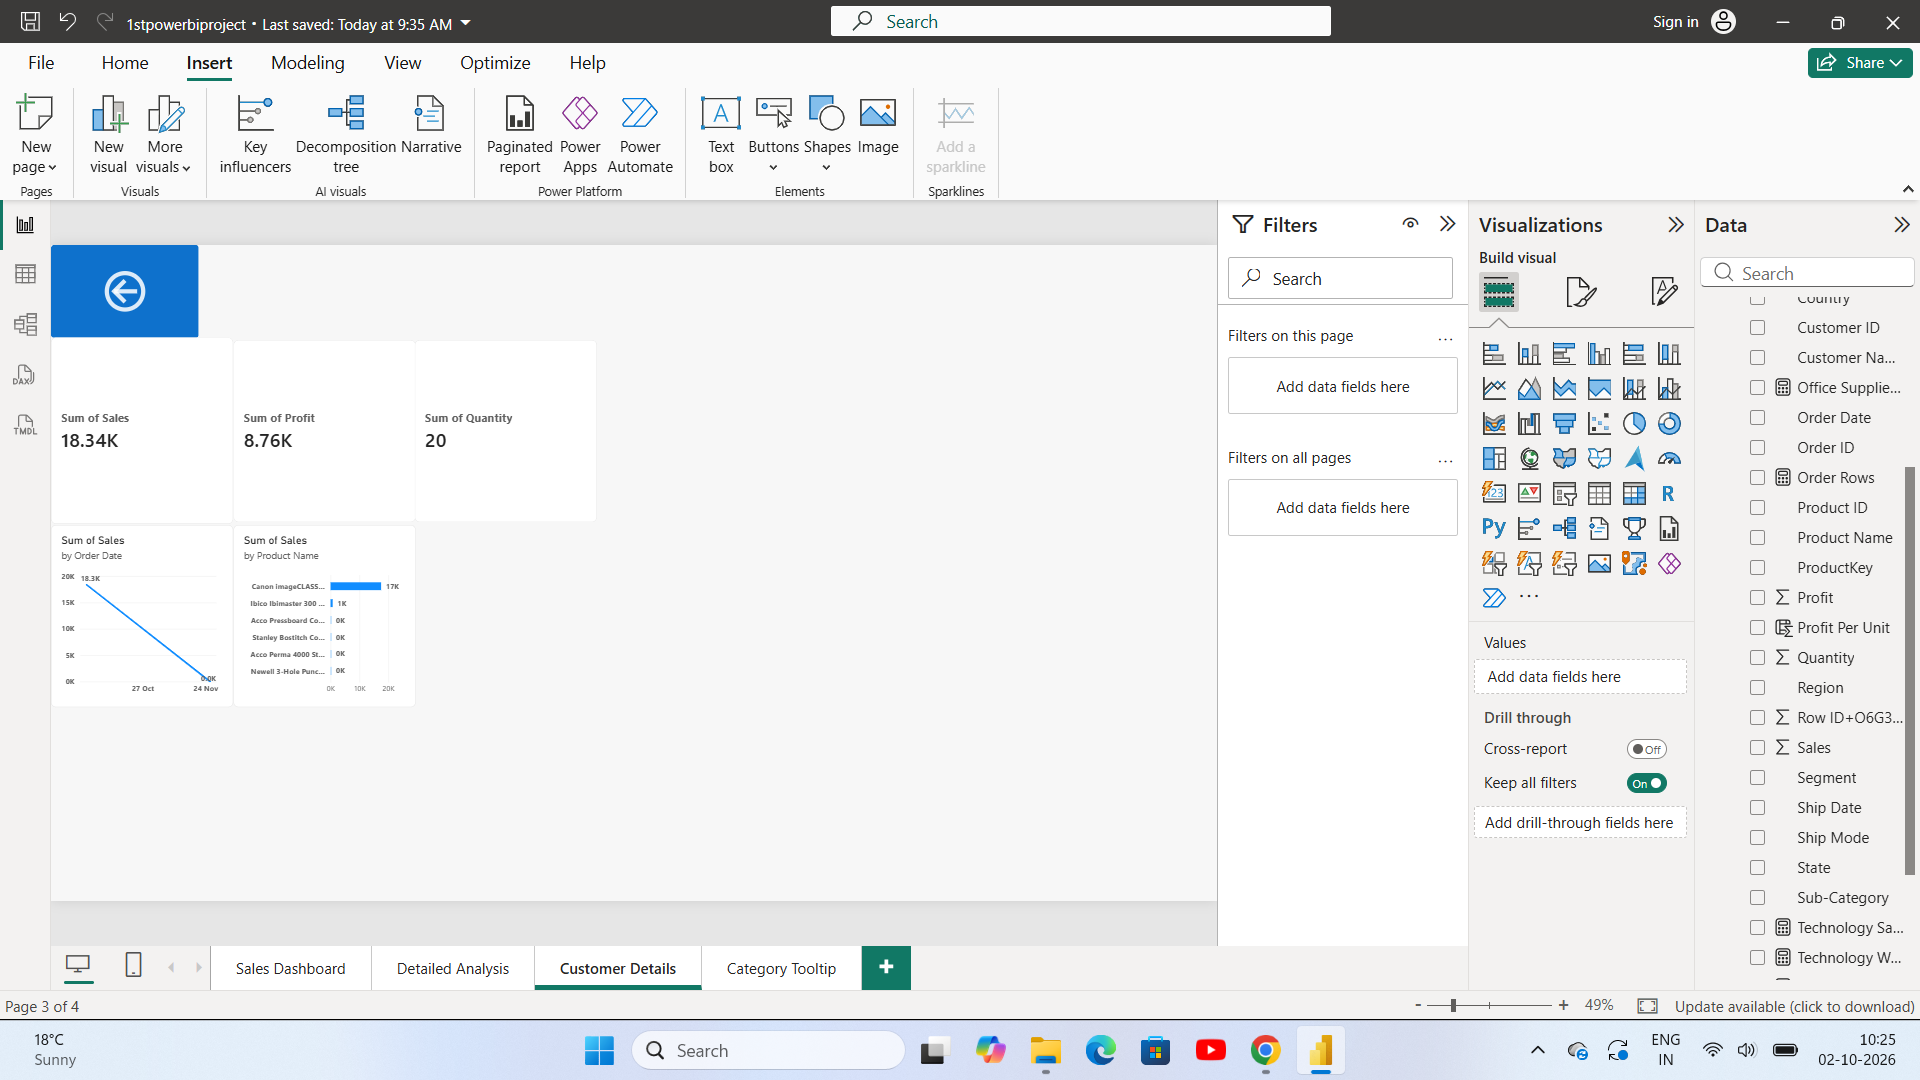

The dashboard page shown, as its layout file describes it:
{"tool":"powerbi","page":{"name":"Customer Details","canvas":[1920,1080],"ordinal":2},"visuals":[{"type":"actionButton","box":[0,0,243.4,152.8],"z":0},{"type":"cardVisual","fields":{"Data":["Sum(Orders.Sales)"]},"box":[0,152.8,300,307.5],"z":1},{"type":"cardVisual","fields":{"Data":["Sum(Orders.Profit)"]},"box":[300,156.6,300,300],"z":2},{"type":"cardVisual","fields":{"Data":["Sum(Orders.Quantity)"]},"box":[600,156.6,300,300],"z":3},{"type":"lineChart","fields":{"Category":["Orders.Order Date"],"Y":["Sum(Orders.Sales)"]},"box":[0,460.4,300,300],"z":4},{"type":"clusteredBarChart","fields":{"Category":["Orders.Product Name"],"Y":["Sum(Orders.Sales)"]},"box":[300,460.4,300,300],"z":5}]}

Visuals, with their boxes on the page's 1920x1080 design canvas (x1, y1, x2, y2). These are canvas units, not pixel positions in the 1920x1080 screenshot, which may show the page scaled, cropped or inside an application window:
actionButton: BBox(0, 0, 243, 153)
cardVisual - Sum(Orders.Sales): BBox(0, 153, 300, 460)
cardVisual - Sum(Orders.Profit): BBox(300, 157, 600, 457)
cardVisual - Sum(Orders.Quantity): BBox(600, 157, 900, 457)
lineChart - Orders.Order Date x Sum(Orders.Sales): BBox(0, 460, 300, 760)
clusteredBarChart - Orders.Product Name x Sum(Orders.Sales): BBox(300, 460, 600, 760)
